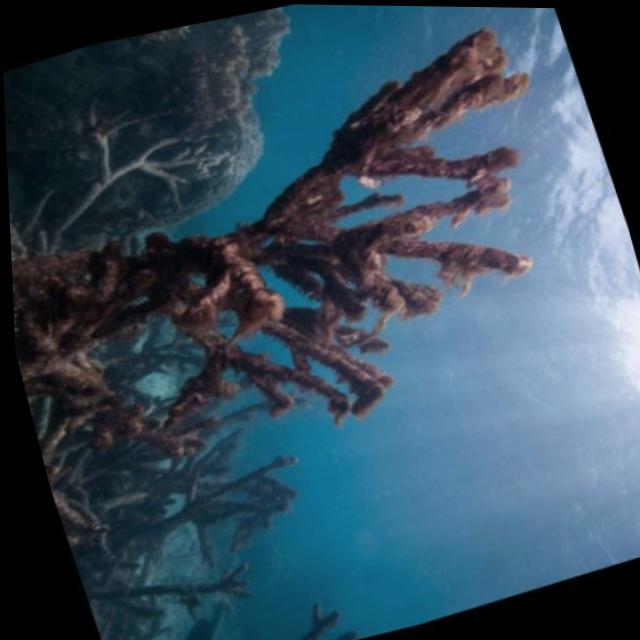Dead Coral: (0, 1, 640, 514)
